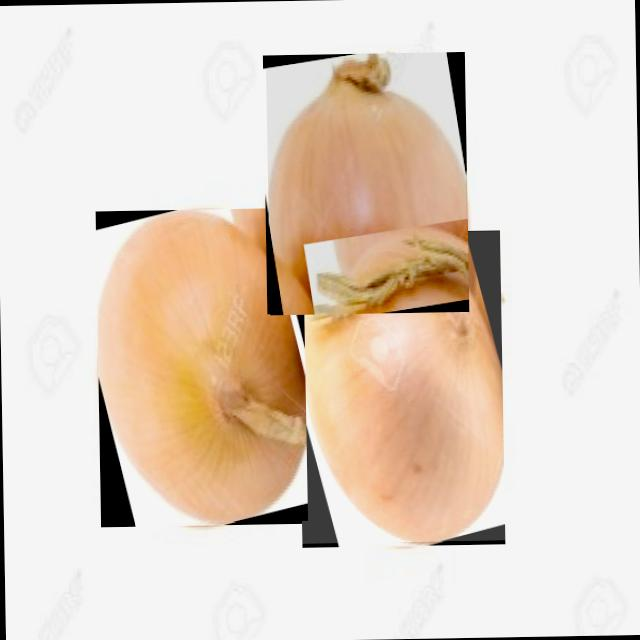healthy: (97, 210, 306, 522), (297, 233, 503, 541), (268, 53, 467, 314)
